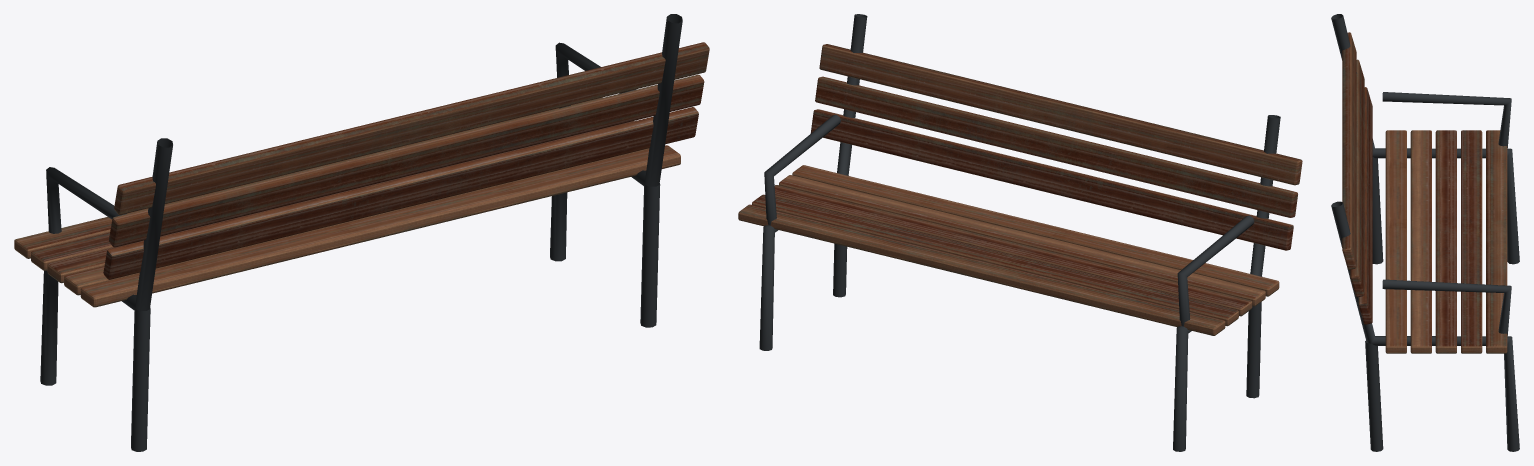
The model's file is orindiq.glb.
The picture shows the model from 3 angles, left to right: view 1: azimuth 30°, elevation 25°; view 2: azimuth 150°, elevation 25°; view 3: azimuth 270°, elevation 25°; orthographic projection. The views are drawn at different scales.
Visible parts, largest first — view 1: orindiq; view 2: orindiq; view 3: orindiq.
Boxes of the visible parts, box(x1,y1,x2,y2) form: orindiq: box(14, 14, 709, 451); orindiq: box(738, 14, 1302, 451); orindiq: box(1331, 14, 1519, 451).
Bounding box in the file's own units: 1.8 × 0.9559 × 0.6634.
2 materials, 1 textured.
